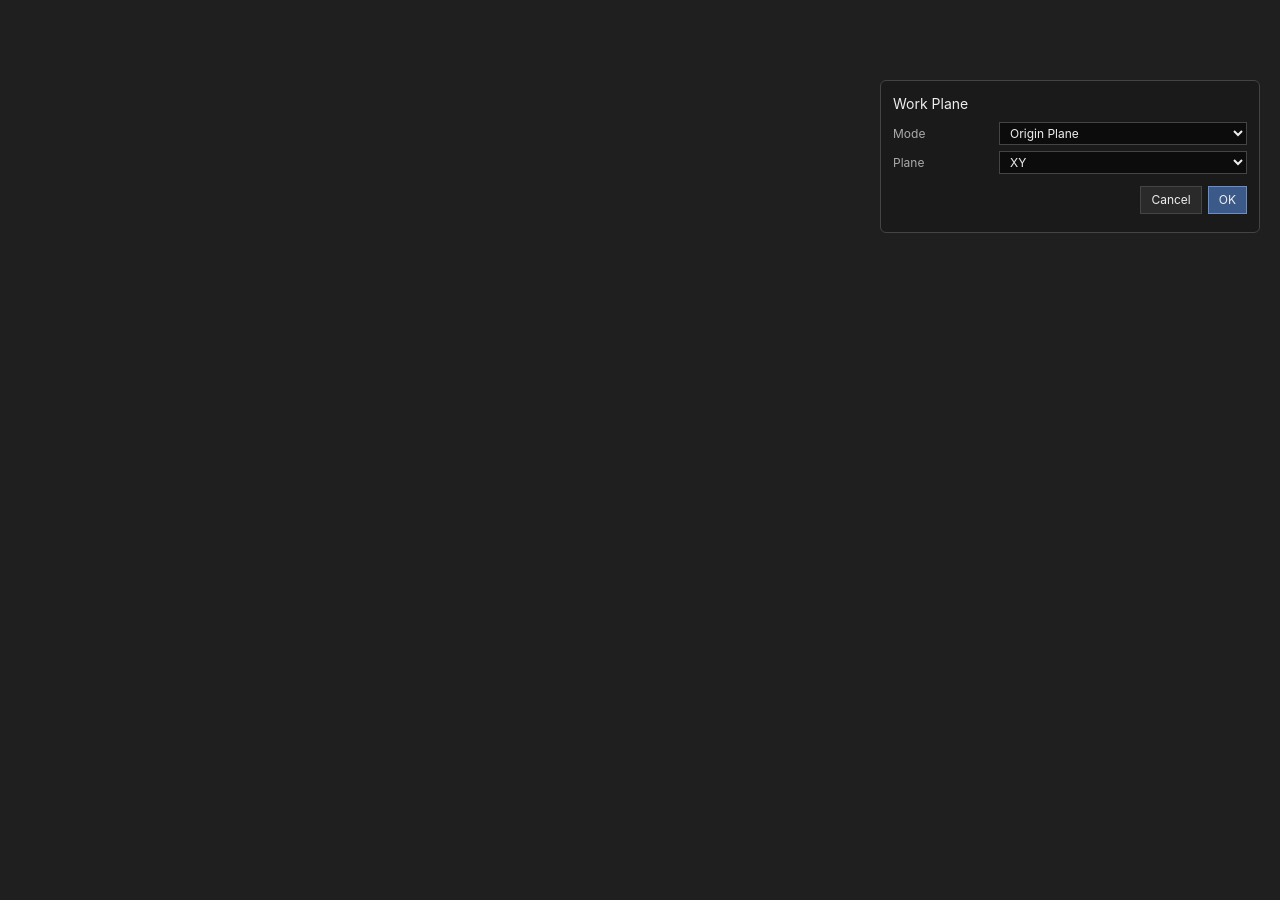
it: WorkPlaneDialog › Pick… buttons › a delivered pick result populates the planeA input
Select "Offset from Plane" in the dropdown labelled "Mode" at coordinates (1123, 134), box 999,122 -> 1247,145
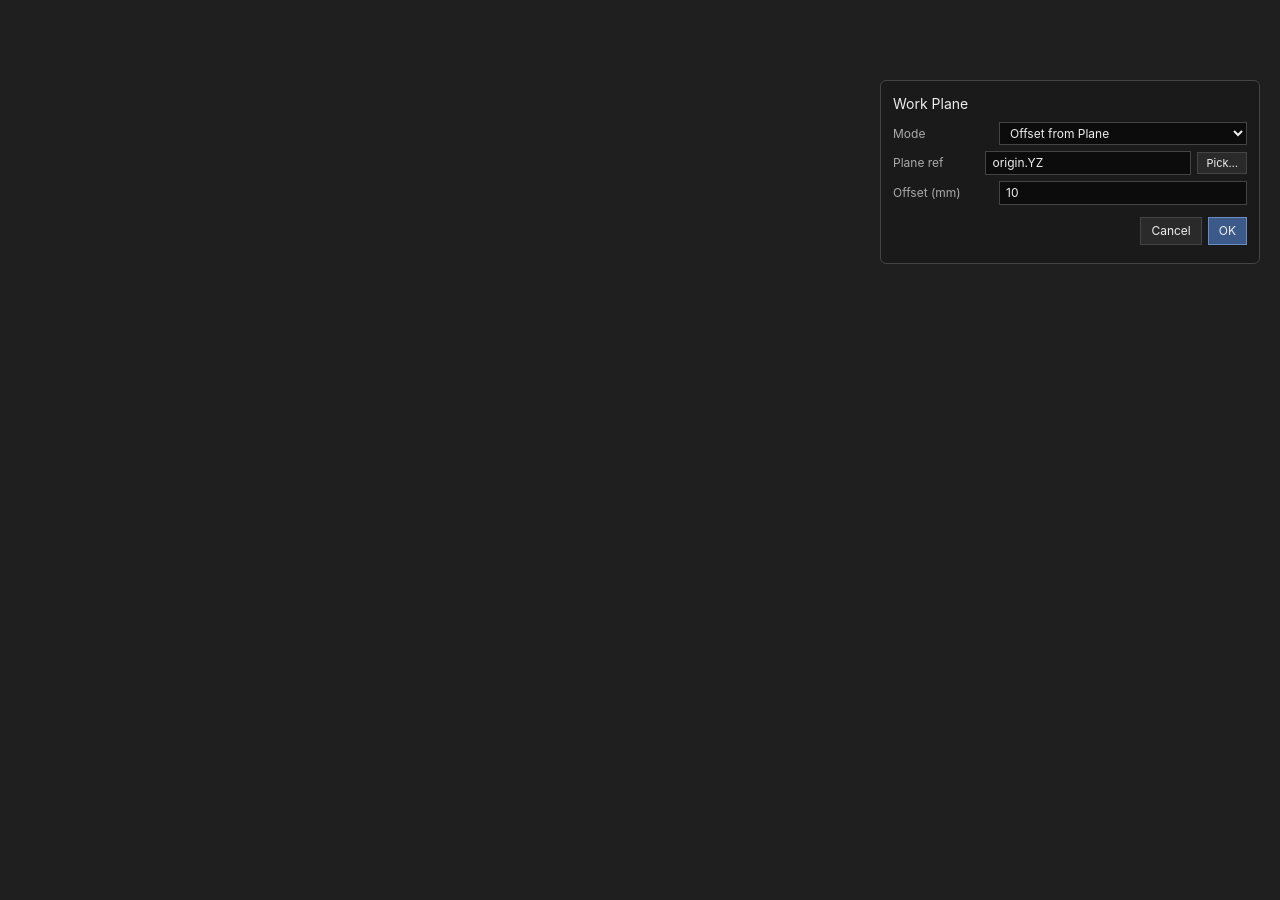
Result: the field named "plane ref" holds "origin.YZ" at 986,151 -> 1192,175
